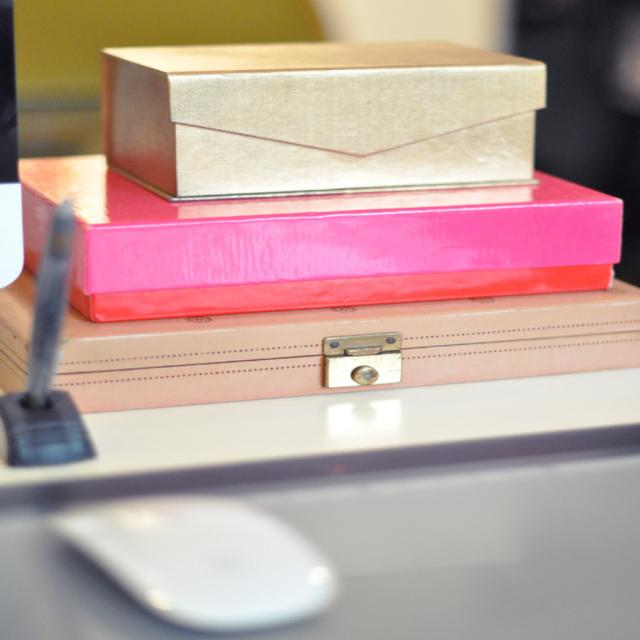Box: (10, 162, 636, 324), (0, 275, 639, 421), (102, 39, 546, 200)
